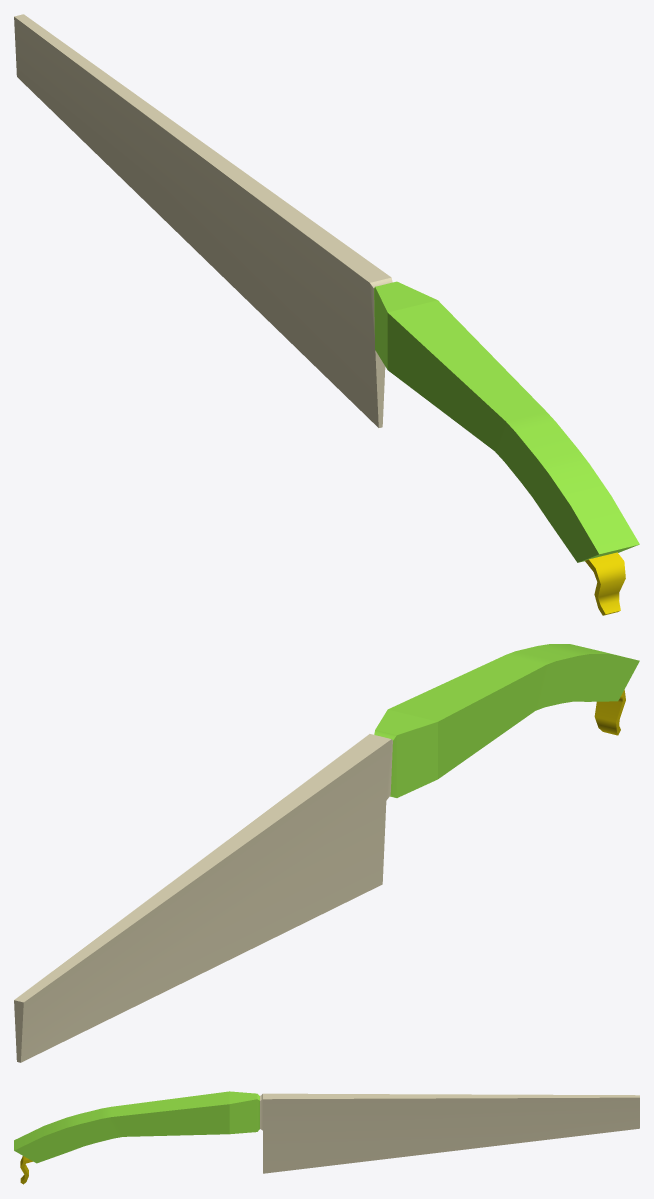
Rendered from scalpel.fbx.
3 renders of one model, top to bottom at view 1: azimuth 30°, elevation 25°; view 2: azimuth 150°, elevation 25°; view 3: azimuth 270°, elevation 25°, orthographic. The views are drawn at different scales.
Parts seen in each view (by area): view 1: pCube3; view 2: pCube3; view 3: pCube3.
Part boxes in pixels (x1=…): pCube3: x1=14, y1=14, x2=639, y2=615; pCube3: x1=14, y1=644, x2=639, y2=1062; pCube3: x1=14, y1=1091, x2=639, y2=1184.
Size of the model in its own units: 0.572 by 1.8 by 11.84.
